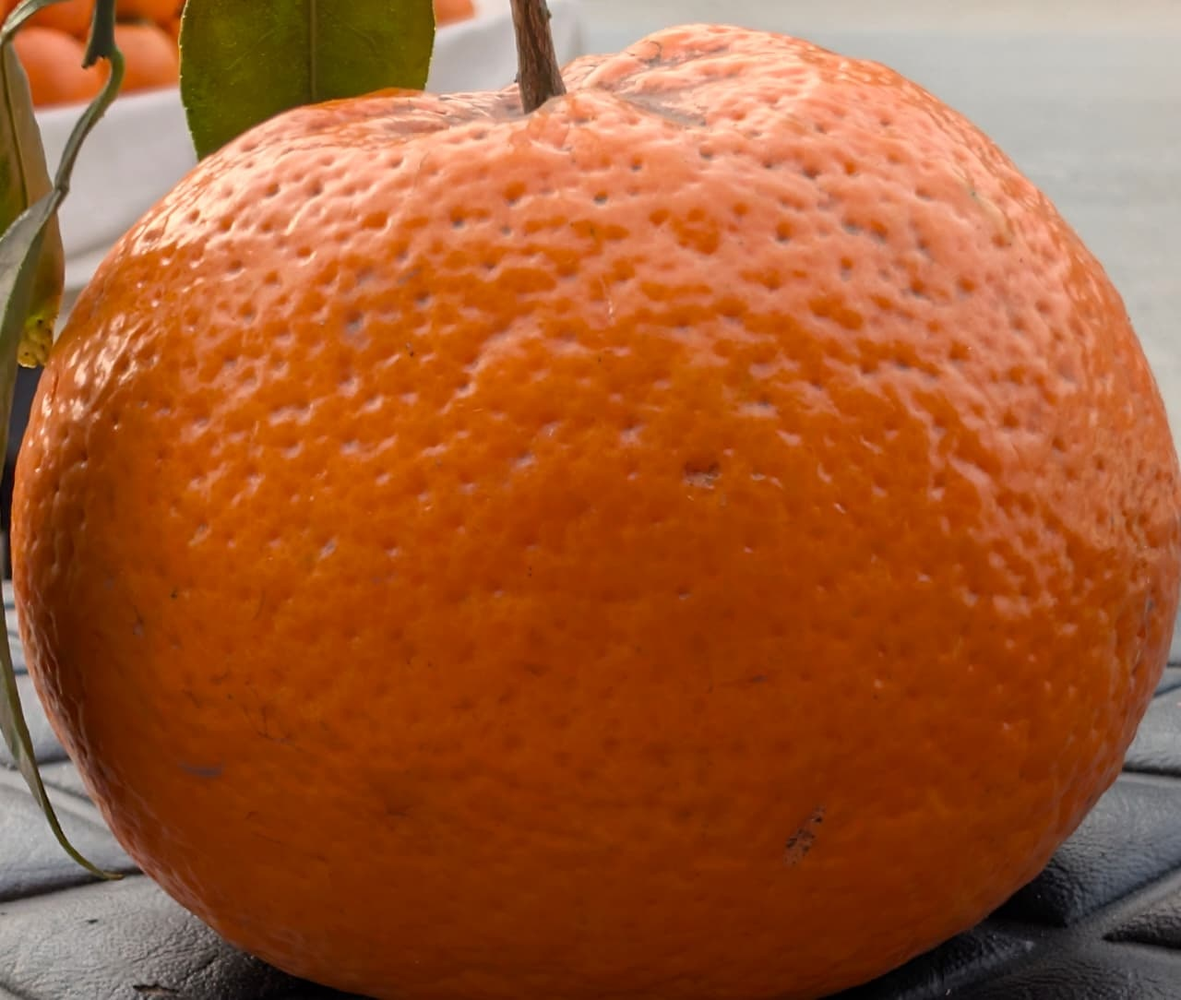orange: (213, 68, 953, 925)
